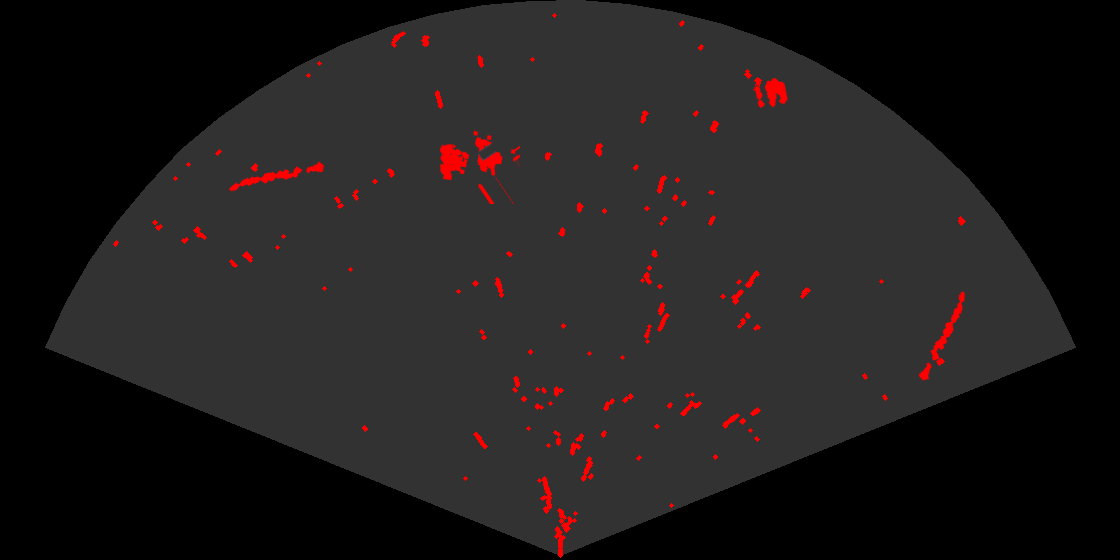ball: (753, 76, 789, 110)
cage: (438, 129, 520, 204)
chain: (917, 290, 967, 382), (227, 160, 326, 193)
